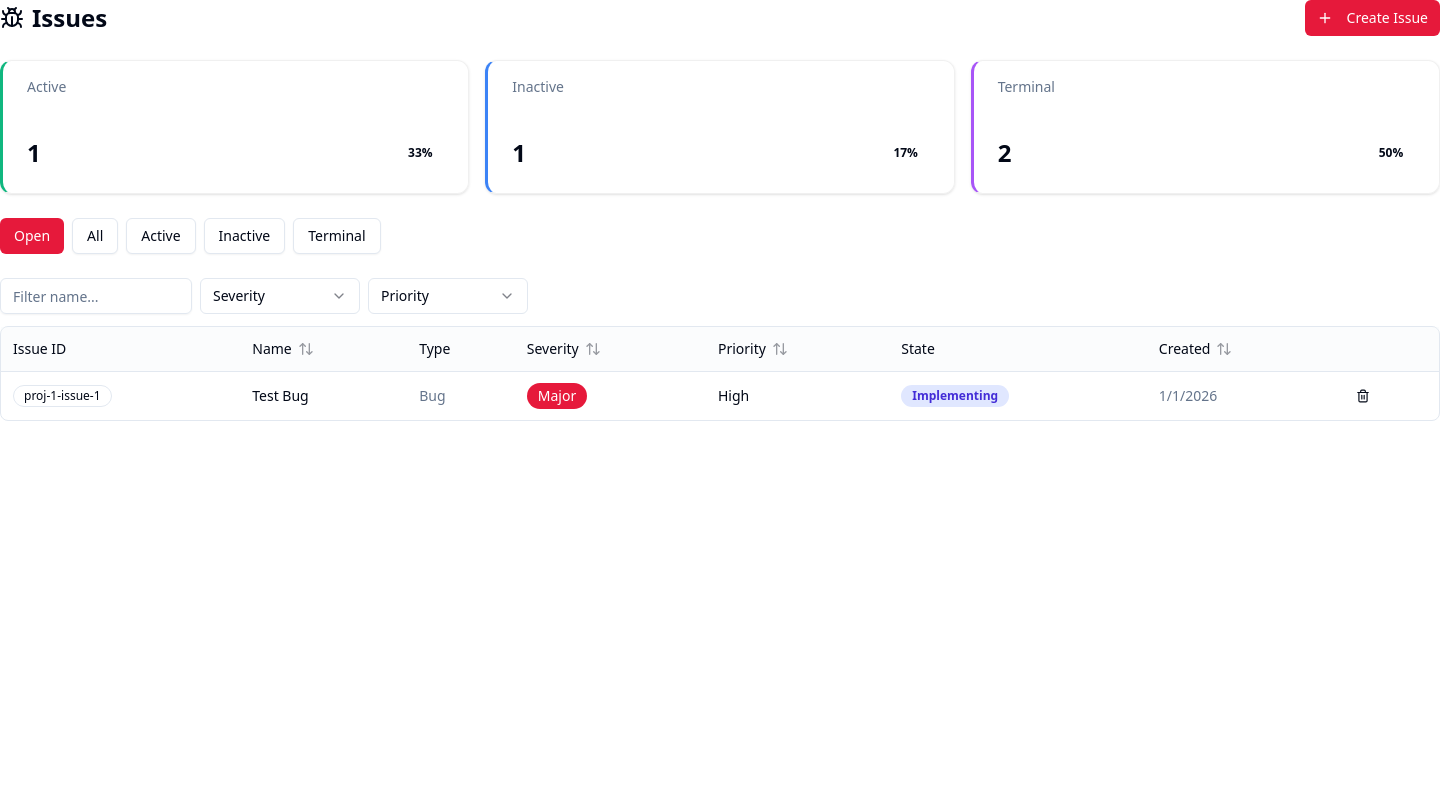
Test: IssuesListPage › shows delete confirmation dialog
Expected: the text "Test Bug" is shown, [252,386,309,404]
What coordinates should you click on to do the following:
click the 6th button
I would click on:
 (1363, 396)
Its box is [1349,382,1377,410].
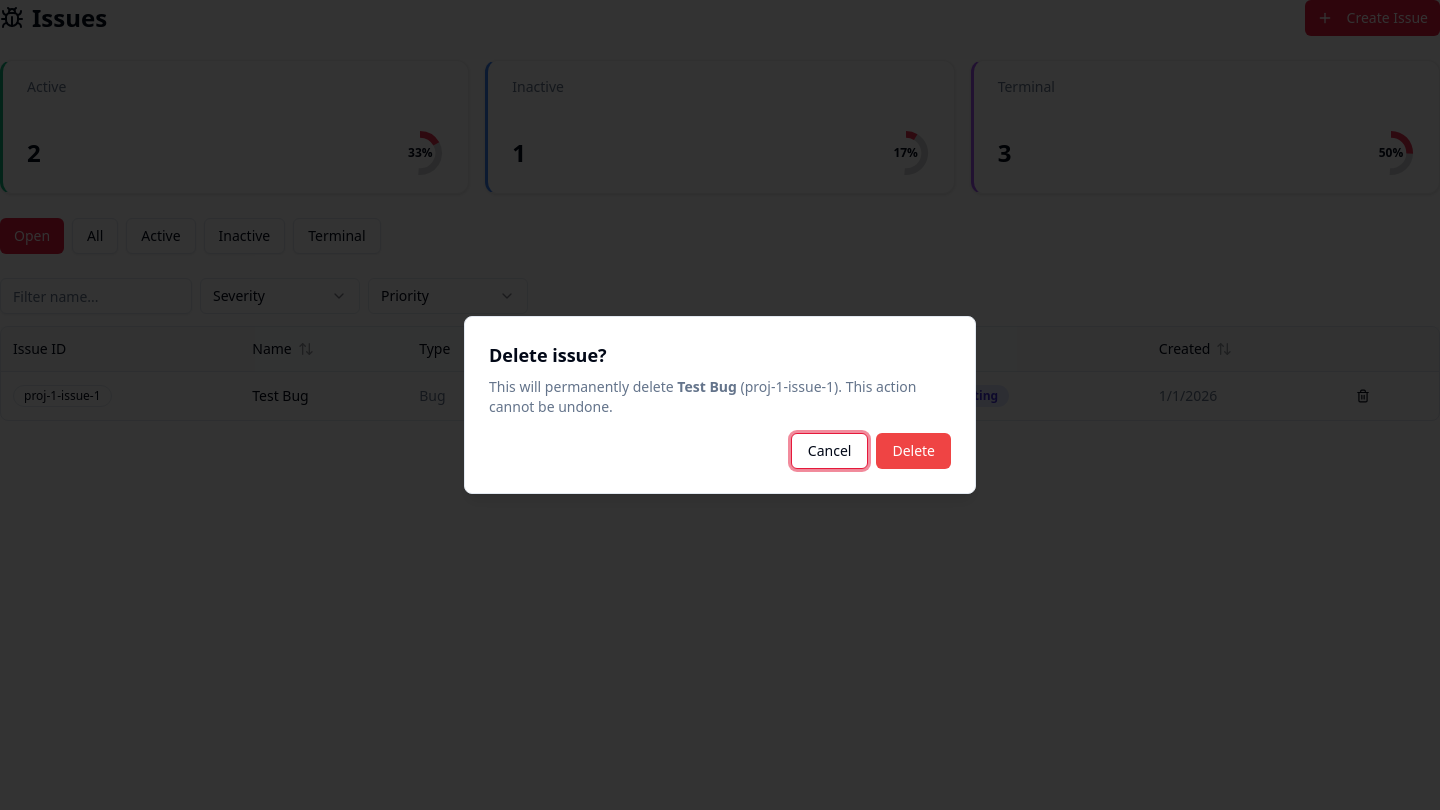
Expected: the heading "Delete issue?" is shown, [489,343,607,367]
